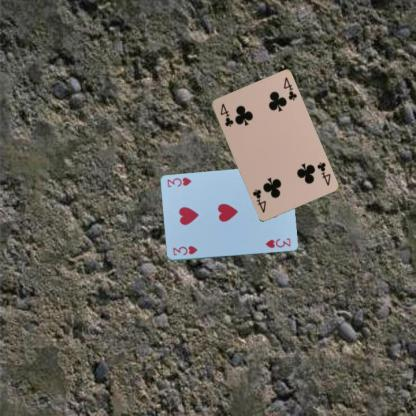3h: (171, 243, 198, 257)
4c: (217, 101, 235, 128), (314, 160, 332, 186)
